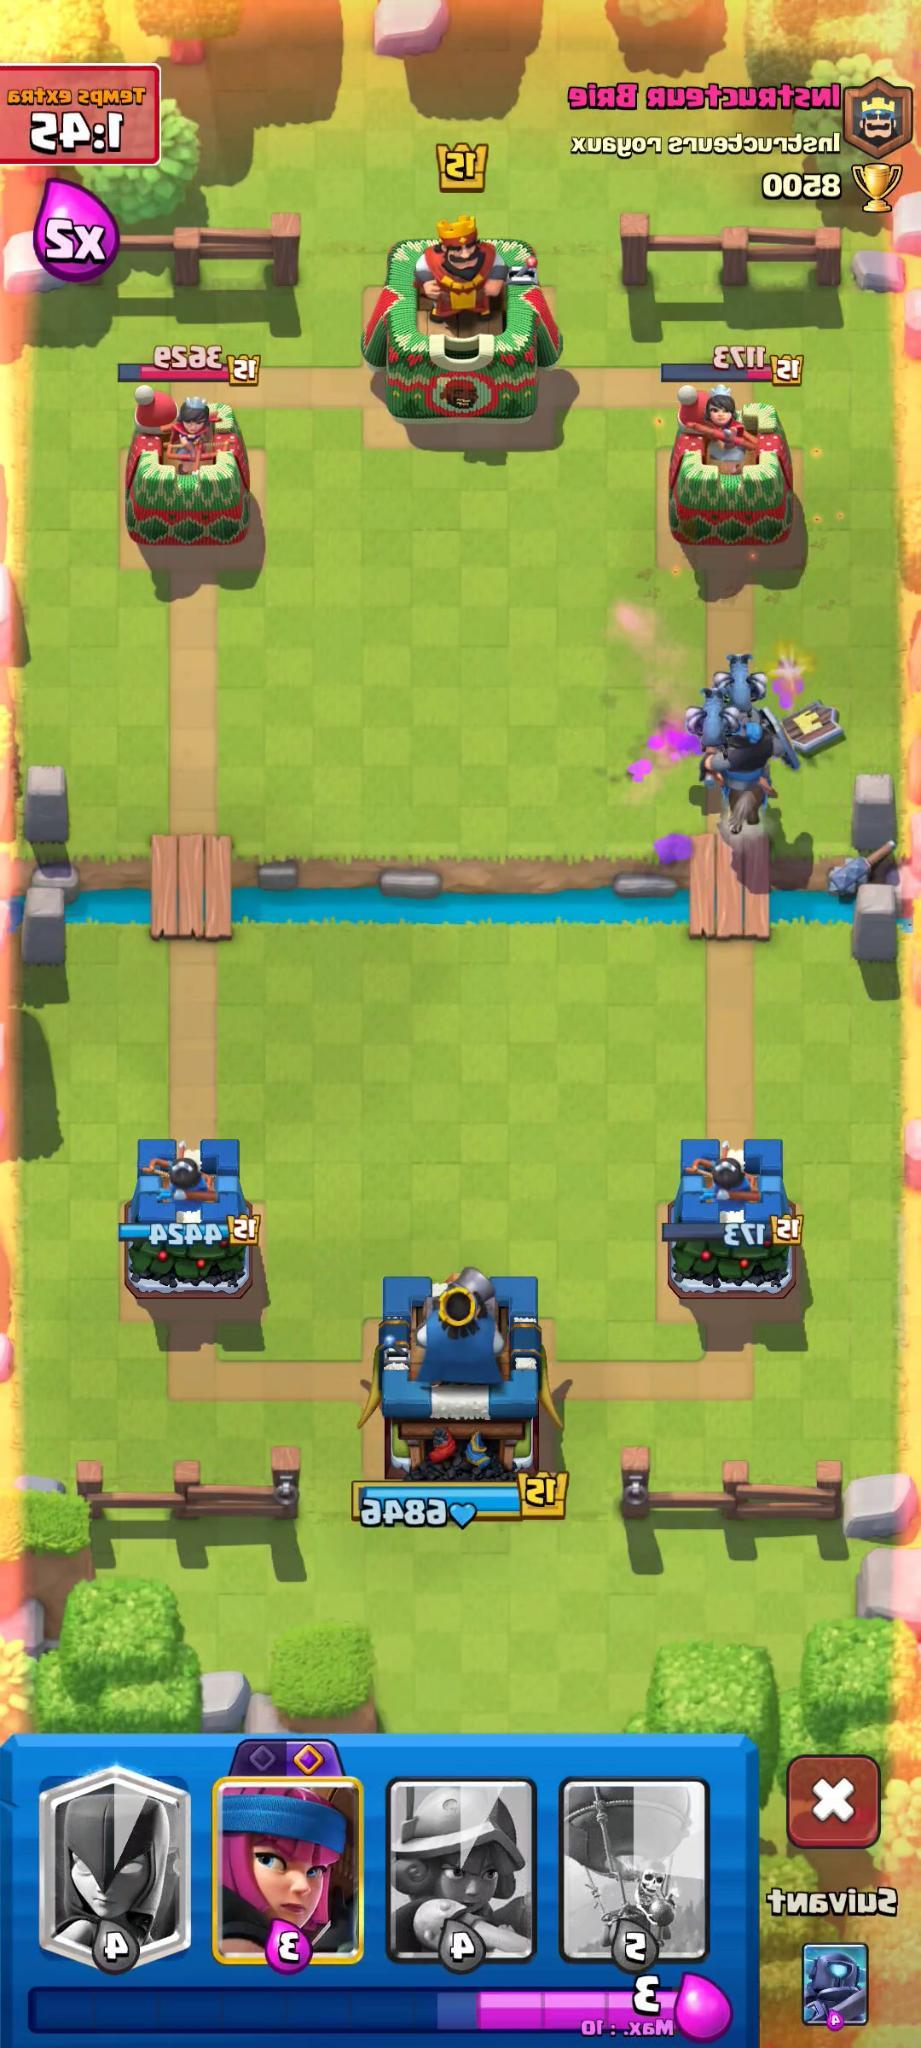player_dark_prince: (701, 705, 801, 850)
player_minions: (707, 647, 771, 726), (681, 684, 735, 759)
